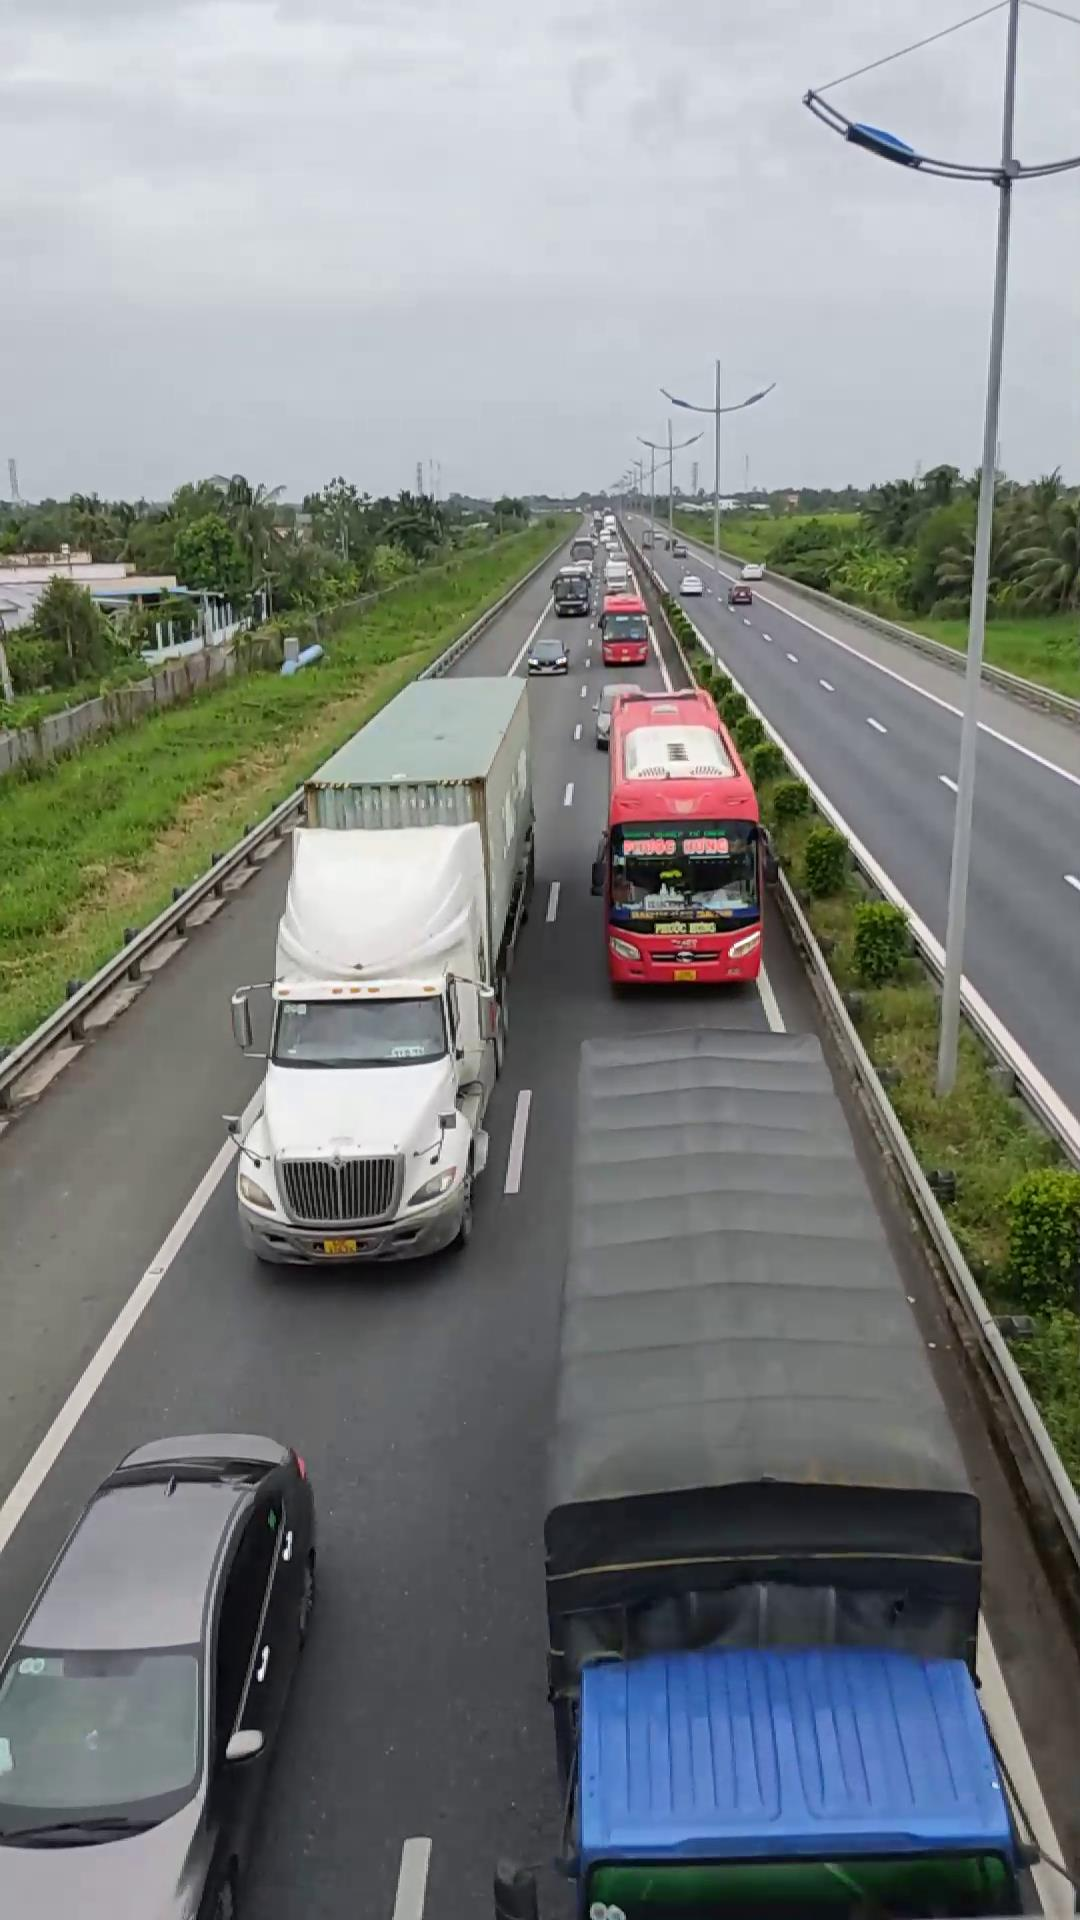bus: (592, 680, 770, 988)
car: (0, 1431, 323, 1918)
container: (230, 665, 532, 1269)
truck: (548, 1018, 1045, 1912)
